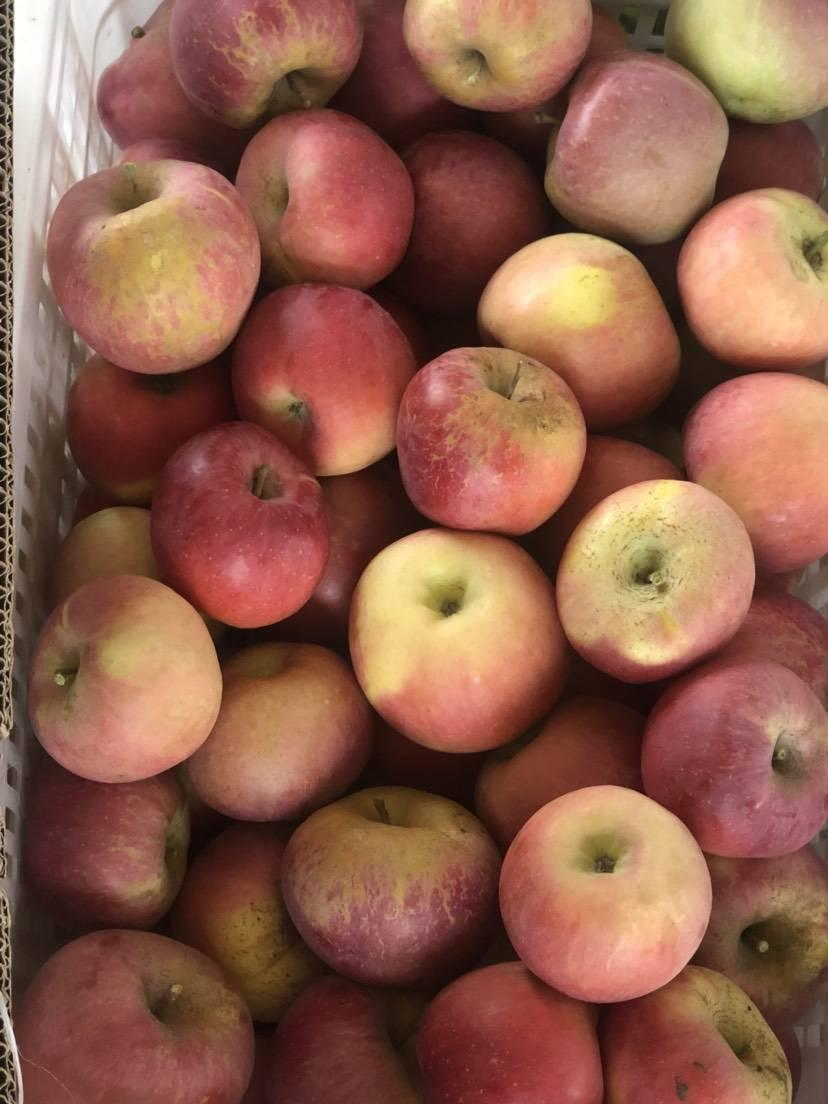apple: (347, 526, 567, 758), (278, 780, 501, 1000), (42, 157, 262, 375), (497, 787, 712, 1006), (15, 928, 252, 1104), (553, 476, 755, 682), (479, 230, 687, 428), (23, 574, 223, 778), (148, 420, 331, 635), (391, 342, 584, 543), (633, 665, 828, 859), (225, 281, 415, 480), (541, 46, 728, 245), (180, 638, 374, 827), (388, 126, 552, 340), (233, 105, 414, 294), (680, 371, 828, 584), (668, 189, 828, 376), (13, 767, 198, 924), (413, 956, 607, 1104), (48, 352, 233, 505), (169, 1, 362, 133), (598, 969, 786, 1098), (689, 835, 826, 1008), (256, 974, 436, 1104), (404, 2, 590, 114), (667, 1, 827, 128), (712, 116, 822, 202)
